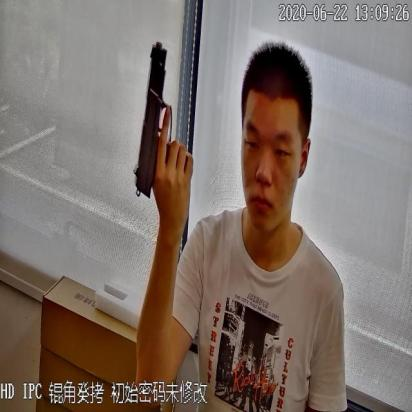Gun: (128, 30, 196, 200)
